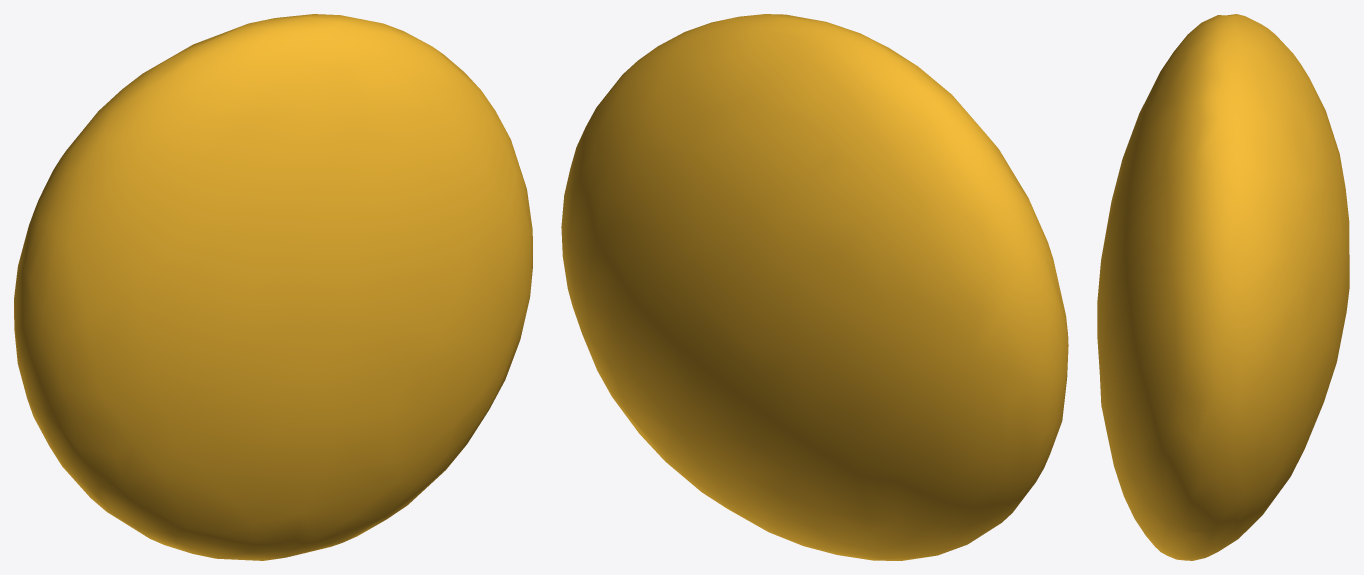
Rendered from nervoso-lens-r.glb.
3 views of the same model, side by side, from view 1: azimuth 30°, elevation 25°; view 2: azimuth 150°, elevation 25°; view 3: azimuth 270°, elevation 25° (orthographic). The views are drawn at different scales.
Visible parts, largest first — view 1: Lens.r; view 2: Lens.r; view 3: Lens.r.
Part boxes in pixels (<box>): Lens.r: <box>14,14,532,560</box>; Lens.r: <box>561,14,1068,560</box>; Lens.r: <box>1097,14,1349,560</box>.
Bounding box in the file's own units: 0.0103 × 0.0104 × 0.00479.
